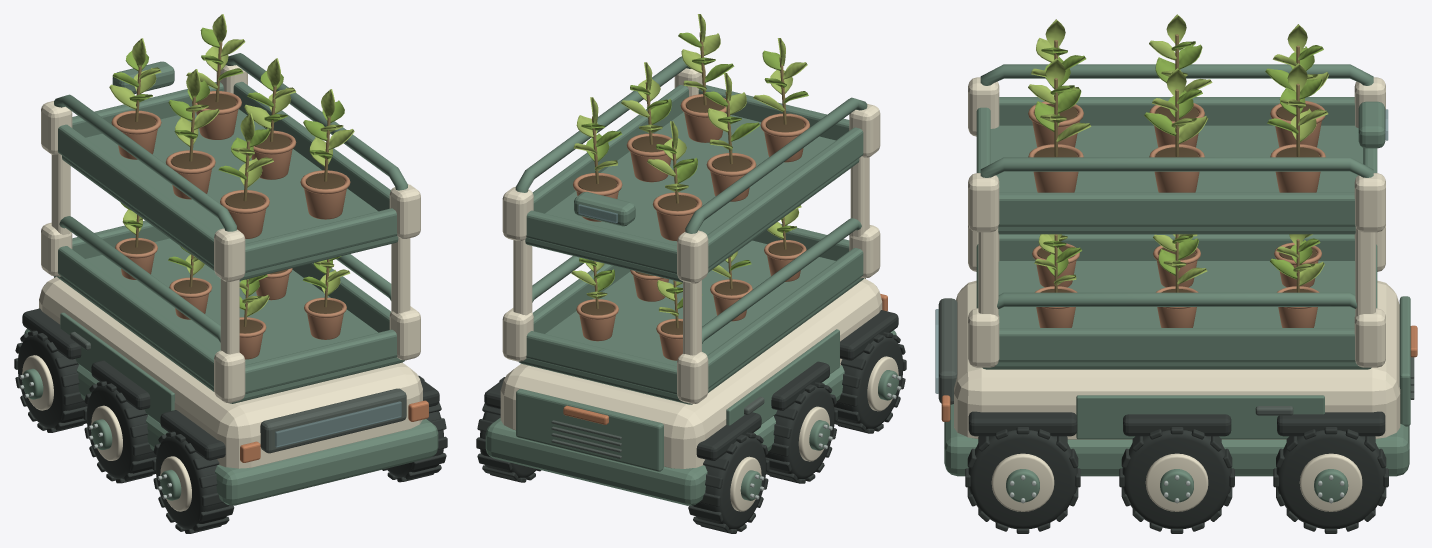
The model's file is nursery_carrier_robot.glb.
The picture shows the model from 3 angles, left to right: view 1: azimuth 30°, elevation 25°; view 2: azimuth 150°, elevation 25°; view 3: azimuth 270°, elevation 25°; orthographic projection. The views are drawn at different scales.
Parts seen in each view (by area): view 1: Rounded_Battery_Chassis, Rack_1_Tray_Floor, Rack_0_Tray_Floor, Lower_Impact_Bumper, Rack_0_Side_Lip_-1, Rack_1_Side_Lip_-1, Front_Navigation_Bar_Housing, Rack_0_End_Lip_-1, Rack_1_End_Lip_-1, Rack_1_Side_Lip_1, Rack_1_Side_Rail_-1, Side_Service_Cover_-1 (+39 smaller); view 2: Rounded_Battery_Chassis, Rack_0_Tray_Floor, Rack_1_Tray_Floor, Lower_Impact_Bumper, Rear_Battery_Access_Panel, Rack_1_Side_Lip_-1, Rack_0_Side_Lip_-1, Rack_1_End_Lip_1, Rack_0_End_Lip_1, Rack_1_Side_Lip_1, Rack_1_Side_Rail_-1, Side_Service_Cover_-1 (+35 smaller); view 3: Rounded_Battery_Chassis, Rack_0_Tray_Floor, Rack_1_Tray_Floor, Rack_0_Side_Lip_1, Rack_1_Side_Lip_1, Side_Service_Cover_1, Rack_0_Side_Lip_-1, Lower_Impact_Bumper, Rack_1_Side_Lip_-1, Rack_1_Side_Rail_1, Carrier_Wheel_1_0_Rubber_Carcass, Carrier_Wheel_1_1_Rubber_Carcass (+32 smaller).
Boxes of the visible parts, left/top/right/bottom form: Rounded_Battery_Chassis: left=39, top=276, right=422, bottom=468; Rack_1_Tray_Floor: left=62, top=109, right=398, bottom=280; Rack_0_Tray_Floor: left=57, top=238, right=404, bottom=403; Lower_Impact_Bumper: left=24, top=329, right=438, bottom=505; Rack_0_Side_Lip_-1: left=58, top=246, right=215, bottom=387; Rack_1_Side_Lip_-1: left=58, top=124, right=214, bottom=266; Front_Navigation_Bar_Housing: left=260, top=388, right=406, bottom=453; Rack_0_End_Lip_-1: left=245, top=329, right=397, bottom=393; Rack_1_End_Lip_-1: left=245, top=208, right=397, bottom=272; Rack_1_Side_Lip_1: left=233, top=81, right=390, bottom=211; Rack_1_Side_Rail_-1: left=54, top=94, right=236, bottom=231; Side_Service_Cover_-1: left=60, top=312, right=174, bottom=423; Rounded_Battery_Chassis: left=500, top=278, right=882, bottom=468; Rack_0_Tray_Floor: left=519, top=240, right=864, bottom=404; Rack_1_Tray_Floor: left=525, top=112, right=859, bottom=282; Lower_Impact_Bumper: left=485, top=330, right=896, bottom=505; Rear_Battery_Access_Panel: left=516, top=389, right=663, bottom=471; Rack_1_Side_Lip_-1: left=707, top=127, right=863, bottom=268; Rack_0_Side_Lip_-1: left=707, top=248, right=863, bottom=388; Rack_1_End_Lip_1: left=526, top=210, right=677, bottom=274; Rack_0_End_Lip_1: left=526, top=331, right=677, bottom=394; Rack_1_Side_Lip_1: left=532, top=85, right=688, bottom=213; Rack_1_Side_Rail_-1: left=685, top=97, right=867, bottom=233; Side_Service_Cover_-1: left=726, top=329, right=839, bottom=425; Rounded_Battery_Chassis: left=954, top=280, right=1400, bottom=439; Rack_0_Tray_Floor: left=982, top=261, right=1371, bottom=369; Rack_1_Tray_Floor: left=990, top=125, right=1363, bottom=234; Rack_0_Side_Lip_1: left=998, top=328, right=1355, bottom=362; Rack_1_Side_Lip_1: left=998, top=192, right=1355, bottom=226; Side_Service_Cover_1: left=1076, top=395, right=1324, bottom=439; Rack_0_Side_Lip_-1: left=999, top=234, right=1354, bottom=260; Lower_Impact_Bumper: left=944, top=404, right=1409, bottom=476; Rack_1_Side_Lip_-1: left=999, top=97, right=1354, bottom=125; Rack_1_Side_Rail_1: left=980, top=157, right=1373, bottom=177; Carrier_Wheel_1_0_Rubber_Carcass: left=968, top=430, right=1077, bottom=528; Carrier_Wheel_1_1_Rubber_Carcass: left=1122, top=430, right=1231, bottom=528.
Size of the model in its own units: 2.24 by 3.05 by 3.07.
